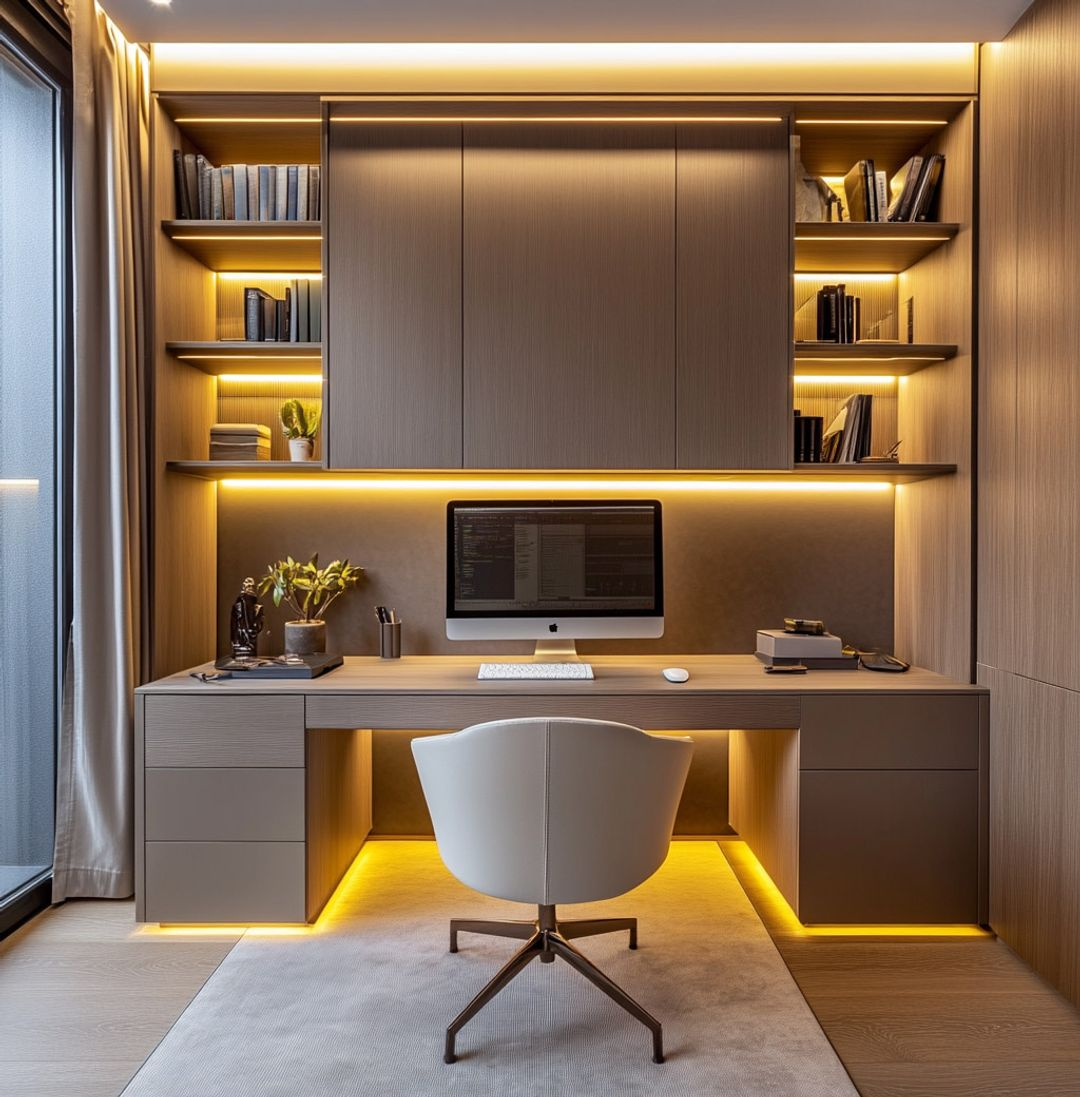not a gesture sign: (156, 925, 251, 935), (262, 925, 303, 935)
